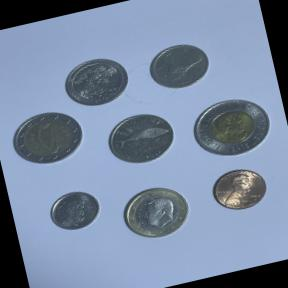1 Euro-B: (111, 175, 202, 250)
2 Euro-B: (5, 101, 90, 171)
Canada-10cent-B: (40, 180, 107, 238)
Canada-2Dollar-B: (181, 87, 280, 167)
Croatia-2Kune-B: (98, 103, 181, 173)
US-1cent-B: (199, 159, 273, 220)
US-25cent-B: (57, 49, 135, 114)
